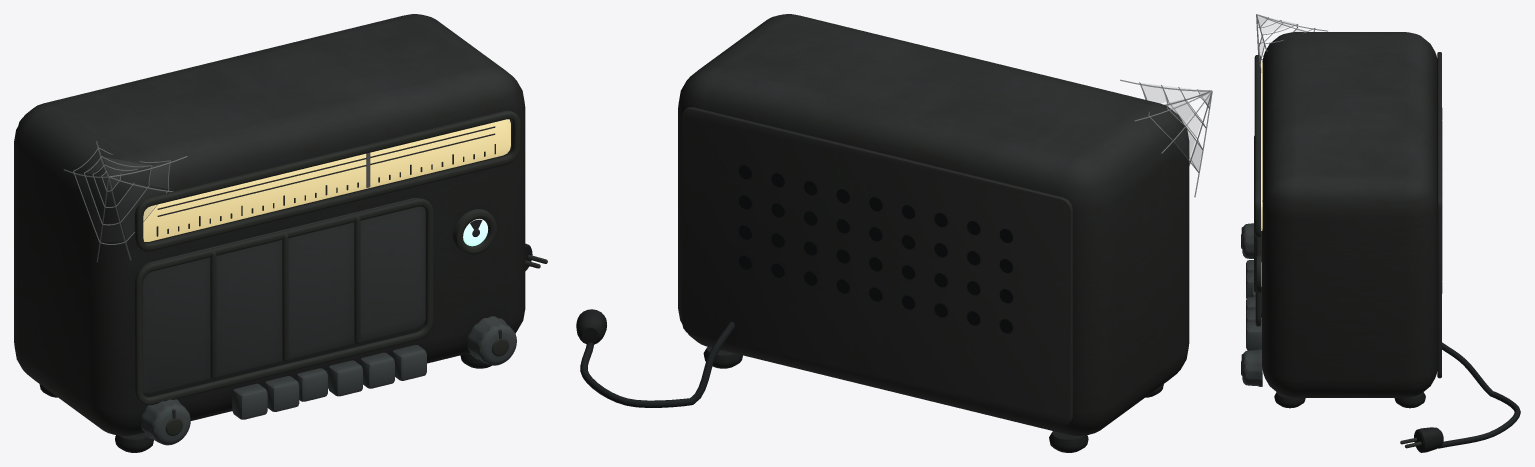
The model's file is old-radio.glb.
3 views of the same model, side by side, from view 1: azimuth 30°, elevation 25°; view 2: azimuth 150°, elevation 25°; view 3: azimuth 270°, elevation 25° (orthographic). The views are drawn at different scales.
Visible parts, largest first — view 1: old-radio_body, old-radio_dial_glow, old-radio_web; view 2: old-radio_body, old-radio_web; view 3: old-radio_body, old-radio_web, old-radio_dial_glow.
Part boxes in pixels (x1=…): old-radio_body: x1=14, y1=14, x2=547, y2=452; old-radio_dial_glow: x1=143, y1=119, x2=510, y2=246; old-radio_web: x1=63, y1=141, x2=187, y2=262; old-radio_body: x1=576, y1=14, x2=1189, y2=452; old-radio_web: x1=1120, y1=79, x2=1212, y2=197; old-radio_body: x1=1241, y1=32, x2=1520, y2=452; old-radio_web: x1=1256, y1=14, x2=1327, y2=72; old-radio_dial_glow: x1=1261, y1=61, x2=1262, y2=286.
Bounding box in the file's own units: 0.5563 × 0.2966 × 0.317.
Materials: 8 (1 with a texture image).
